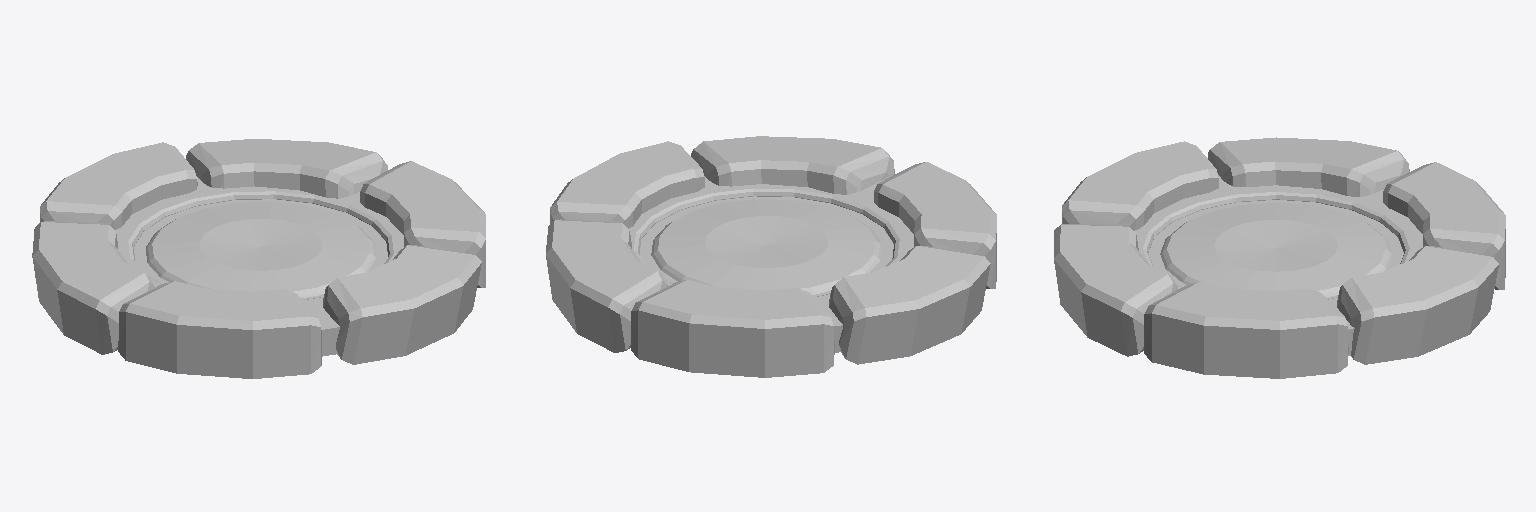
File: checkpoint_freezee.obj
3 views of the same model, side by side, from view 1: azimuth 30°, elevation 25°; view 2: azimuth 150°, elevation 25°; view 3: azimuth 270°, elevation 25° (orthographic).
Visible parts, largest first — view 1: checkpoint_low:pCylinder1, checkpoint_low:polySurface38polySurface39, checkpoint_low:polySurface38polySurface43, checkpoint_low:polySurface40polySurface38, checkpoint_low:polySurface38polySurface42, checkpoint_low:polySurface38polySurface41, checkpoint_low:polySurface38polySurface44; view 2: checkpoint_low:pCylinder1, checkpoint_low:polySurface38polySurface41, checkpoint_low:polySurface40polySurface38, checkpoint_low:polySurface38polySurface42, checkpoint_low:polySurface38polySurface43, checkpoint_low:polySurface38polySurface44, checkpoint_low:polySurface38polySurface39; view 3: checkpoint_low:pCylinder1, checkpoint_low:polySurface38polySurface44, checkpoint_low:polySurface38polySurface42, checkpoint_low:polySurface38polySurface43, checkpoint_low:polySurface40polySurface38, checkpoint_low:polySurface38polySurface39, checkpoint_low:polySurface38polySurface41.
Part boxes in pixels (x1,y1,x2,y2): checkpoint_low:pCylinder1: (115, 176, 403, 356); checkpoint_low:polySurface38polySurface39: (118, 281, 321, 378); checkpoint_low:polySurface38polySurface43: (323, 245, 481, 364); checkpoint_low:polySurface40polySurface38: (32, 221, 154, 354); checkpoint_low:polySurface38polySurface42: (186, 139, 387, 198); checkpoint_low:polySurface38polySurface41: (40, 142, 197, 229); checkpoint_low:polySurface38polySurface44: (360, 161, 485, 287); checkpoint_low:pCylinder1: (629, 176, 913, 352); checkpoint_low:polySurface38polySurface41: (631, 280, 834, 377); checkpoint_low:polySurface40polySurface38: (829, 246, 990, 364); checkpoint_low:polySurface38polySurface42: (546, 219, 667, 352); checkpoint_low:polySurface38polySurface43: (691, 136, 894, 194); checkpoint_low:polySurface38polySurface44: (550, 141, 704, 228); checkpoint_low:polySurface38polySurface39: (874, 162, 996, 288); checkpoint_low:pCylinder1: (1135, 175, 1422, 355); checkpoint_low:polySurface38polySurface44: (1144, 282, 1348, 378); checkpoint_low:polySurface38polySurface42: (1337, 246, 1498, 364); checkpoint_low:polySurface38polySurface43: (1054, 224, 1177, 356); checkpoint_low:polySurface40polySurface38: (1208, 137, 1409, 196); checkpoint_low:polySurface38polySurface39: (1062, 141, 1218, 230); checkpoint_low:polySurface38polySurface41: (1383, 162, 1505, 289).
Bounding box in the file's own units: 10.2 × 1.57 × 9.96.